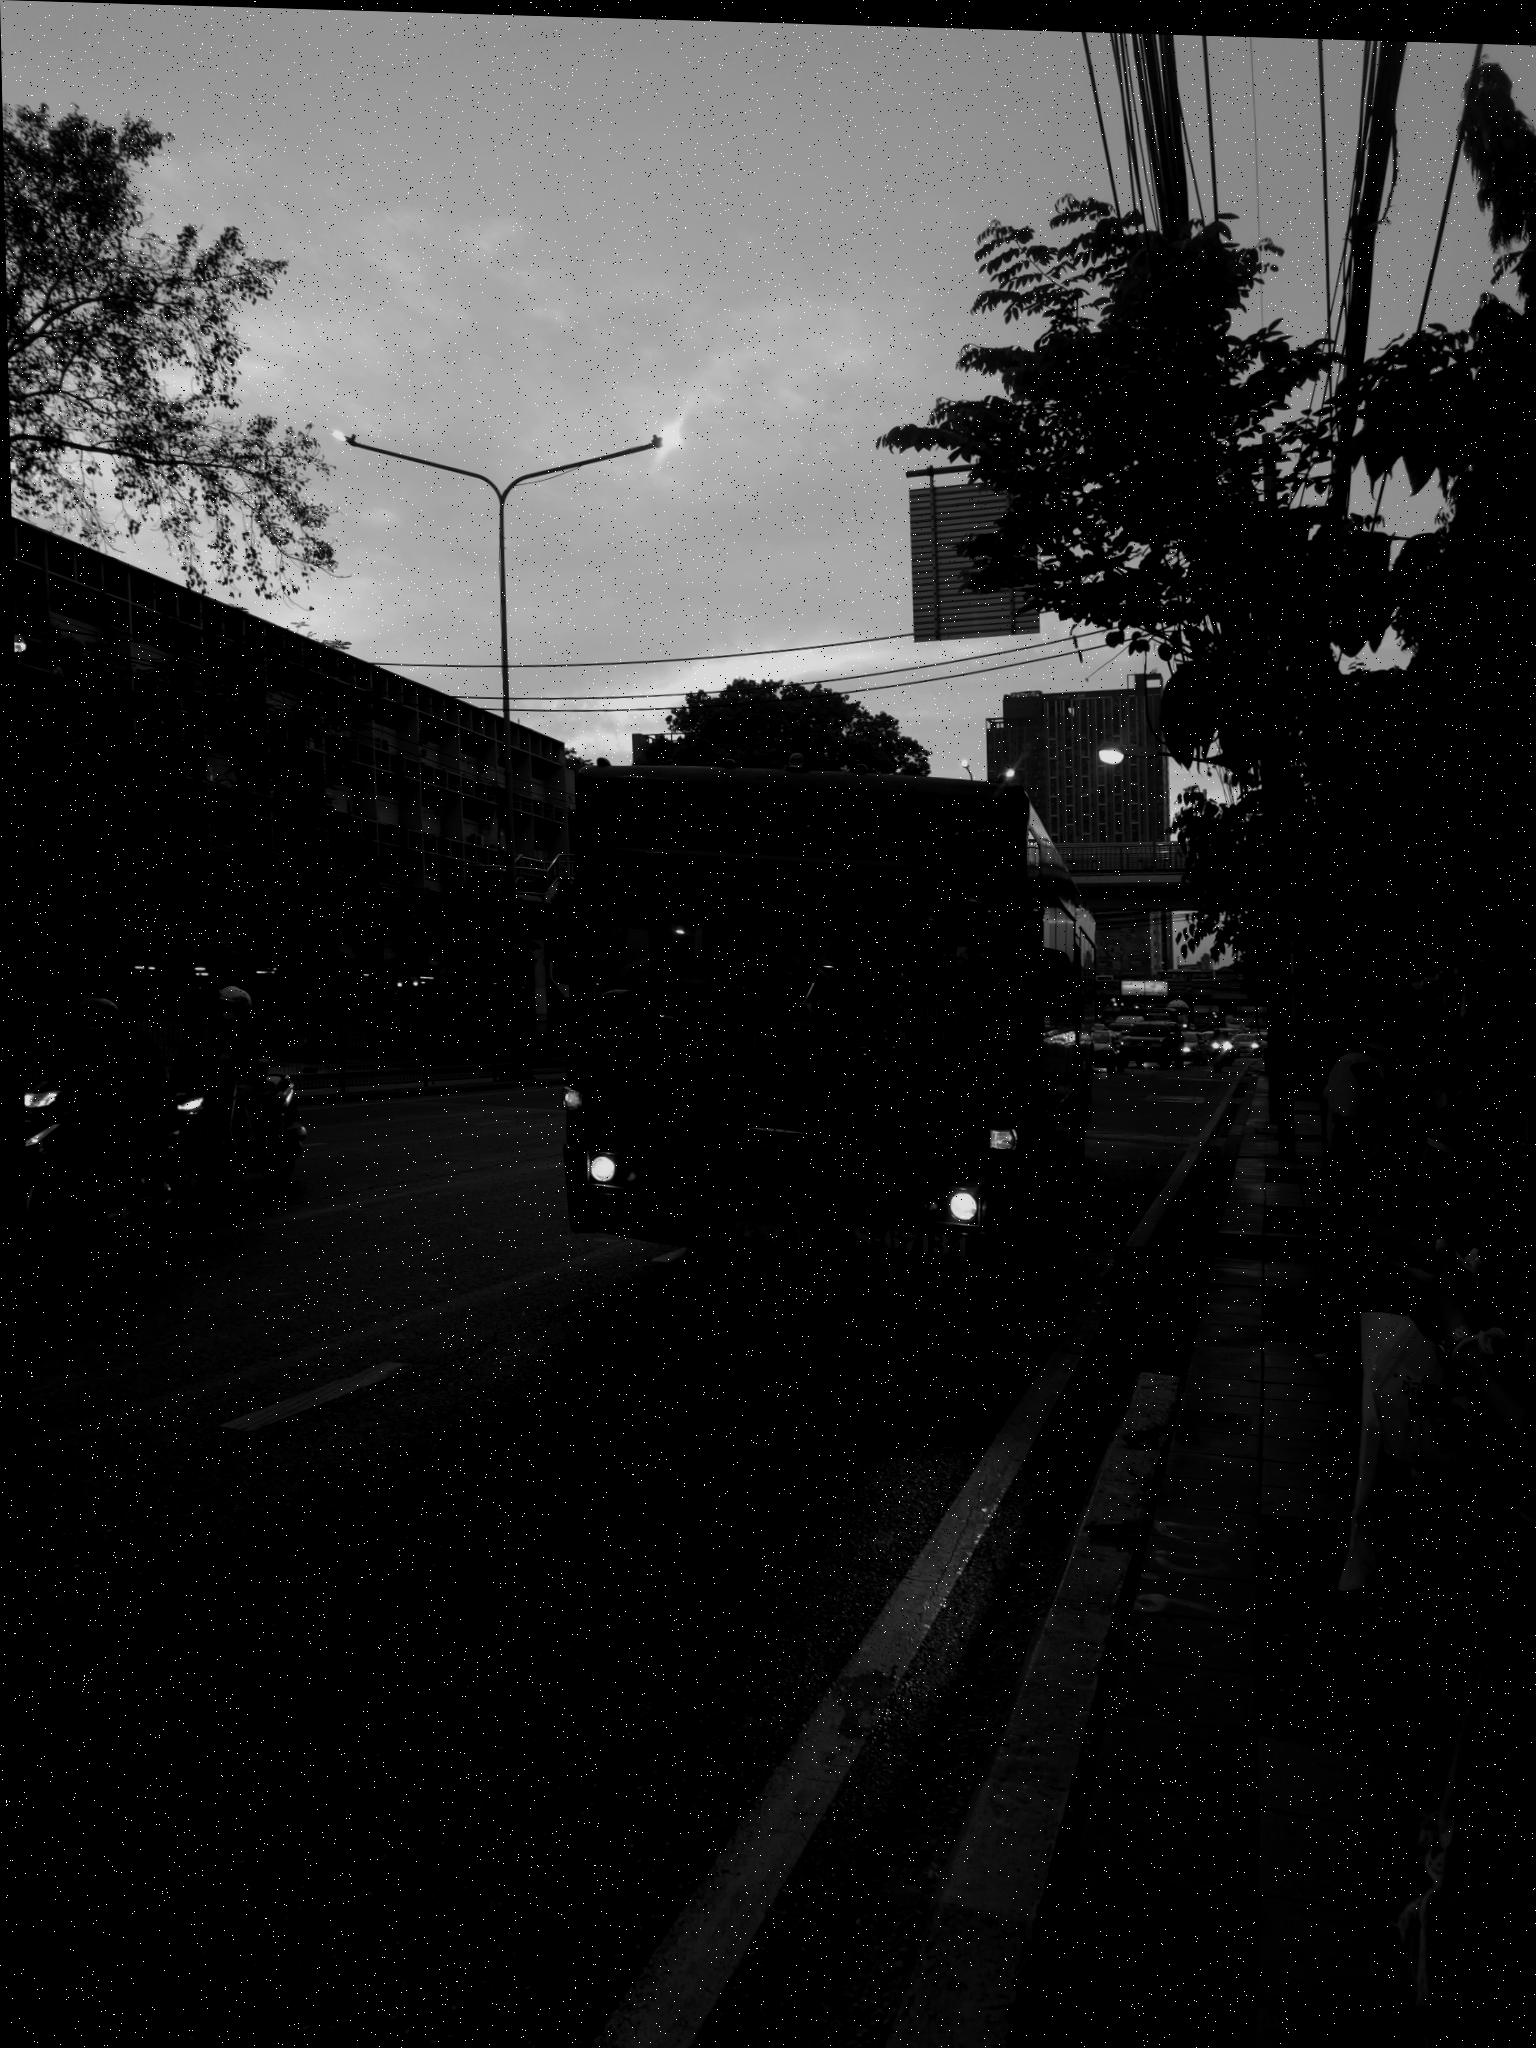BMTA-bus: (553, 760, 1094, 1306)
Bus Line Number: (750, 792, 878, 851)
Bus Side Number: (839, 1216, 968, 1259)
Destination Sign: (868, 982, 986, 1050)
